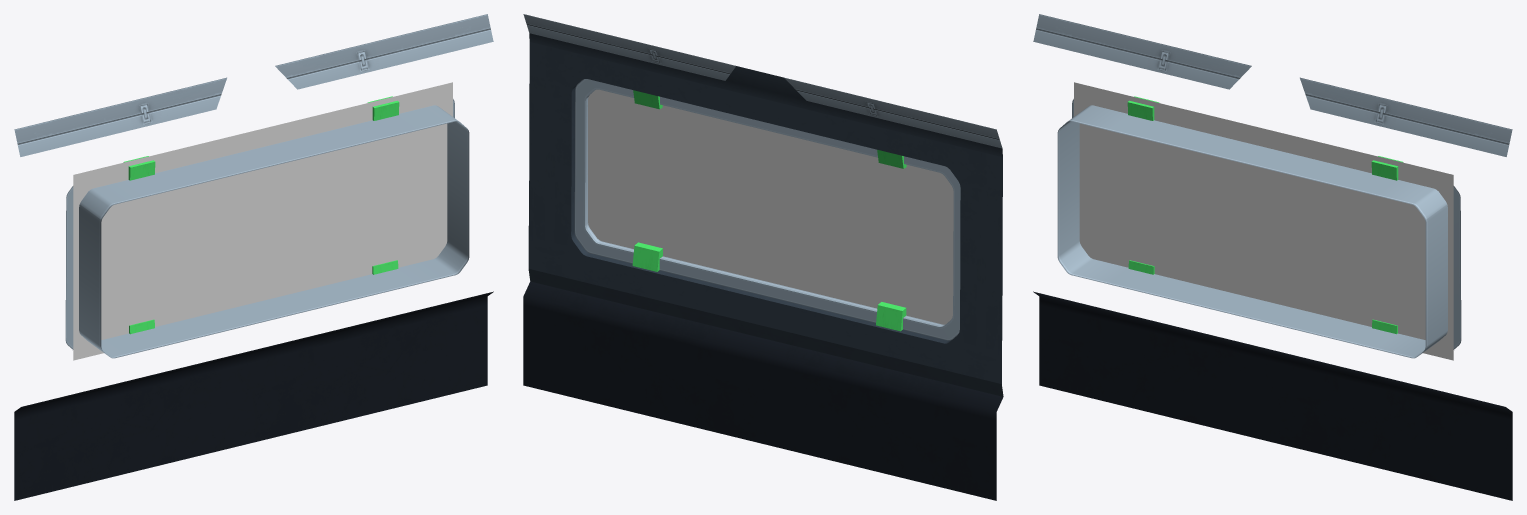
The model's file is FoundryWindow.glb.
3 renders of one model, left to right at view 1: azimuth 30°, elevation 25°; view 2: azimuth 150°, elevation 25°; view 3: azimuth 330°, elevation 25°, orthographic.
Parts seen in each view (by area): view 1: RF_FoundryWindow_01_RavineWater, RF_FoundryWindow_03_PanelPlastic, RF_FoundryWindow_04_SecondaryMetal, RF_FoundryWindow_00_EnergyGreen; view 2: RF_FoundryWindow_01_RavineWater, RF_FoundryWindow_02_DarkMetal, RF_FoundryWindow_03_PanelPlastic, RF_FoundryWindow_04_SecondaryMetal, RF_FoundryWindow_00_EnergyGreen; view 3: RF_FoundryWindow_01_RavineWater, RF_FoundryWindow_03_PanelPlastic, RF_FoundryWindow_04_SecondaryMetal, RF_FoundryWindow_00_EnergyGreen.
Part boxes in pixels (bbox=[...]): RF_FoundryWindow_01_RavineWater: bbox=[73, 82, 452, 360]; RF_FoundryWindow_03_PanelPlastic: bbox=[14, 291, 493, 500]; RF_FoundryWindow_04_SecondaryMetal: bbox=[14, 14, 493, 358]; RF_FoundryWindow_00_EnergyGreen: bbox=[123, 96, 399, 334]; RF_FoundryWindow_01_RavineWater: bbox=[588, 89, 953, 324]; RF_FoundryWindow_02_DarkMetal: bbox=[528, 33, 1003, 396]; RF_FoundryWindow_03_PanelPlastic: bbox=[523, 281, 1003, 500]; RF_FoundryWindow_04_SecondaryMetal: bbox=[523, 14, 1002, 340]; RF_FoundryWindow_00_EnergyGreen: bbox=[632, 90, 906, 331]; RF_FoundryWindow_01_RavineWater: bbox=[1074, 82, 1453, 360]; RF_FoundryWindow_03_PanelPlastic: bbox=[1033, 291, 1512, 500]; RF_FoundryWindow_04_SecondaryMetal: bbox=[1033, 14, 1512, 358]; RF_FoundryWindow_00_EnergyGreen: bbox=[1127, 96, 1403, 334].
Bounding box in the file's own units: 9.6 × 7.2 × 1.2.
Materials: 5 (4 with a texture image).
